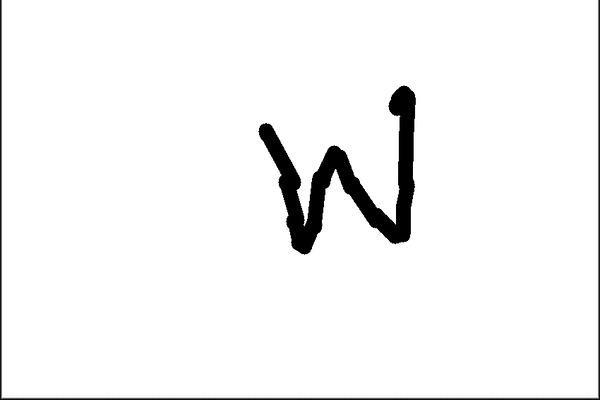w: (231, 74, 435, 268)
